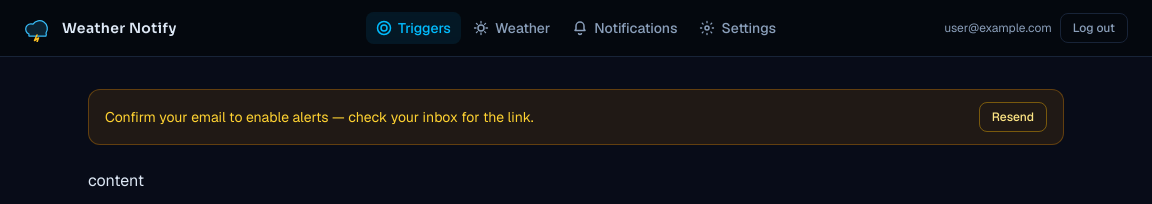
Test: AppShell › email verification banner › surfaces a throttled resend rather than looking like nothing happened
Click the button "Resend": click(1013, 117) x1=979 y1=102 x2=1047 y2=132
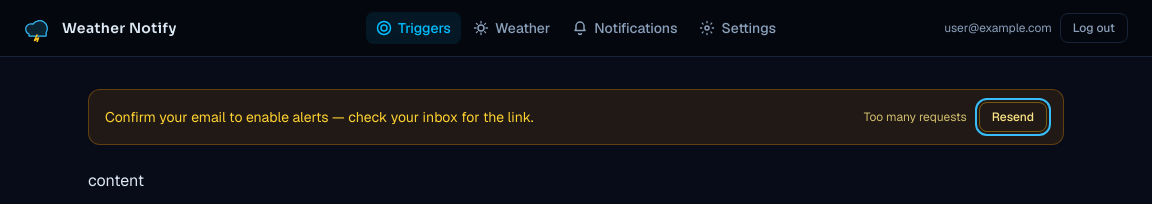
Expected: the text "Too many requests" is shown, x1=864 y1=109 x2=967 y2=125
